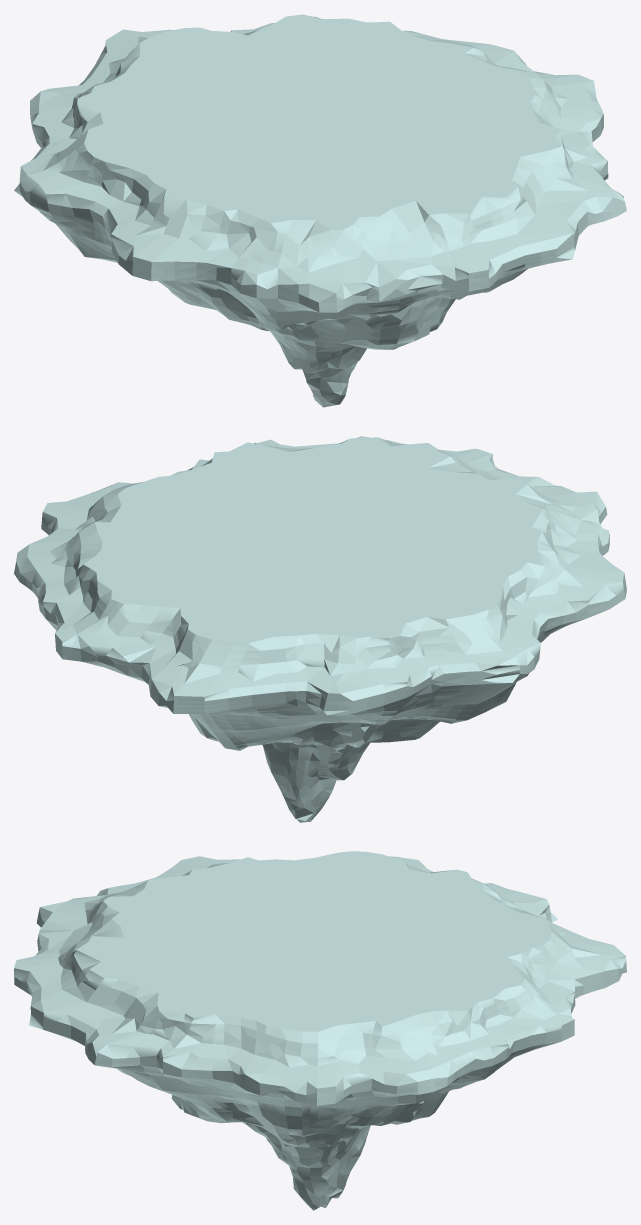
File: IcePlatformLP.fbx
3 views of the same model, one above another, from view 1: azimuth 30°, elevation 25°; view 2: azimuth 150°, elevation 25°; view 3: azimuth 270°, elevation 25° (orthographic). The views are drawn at different scales.
Visible parts, largest first — view 1: Ice; view 2: Ice; view 3: Ice.
Boxes of the visible parts, bbox=[...] form: Ice: bbox=[14, 14, 626, 407]; Ice: bbox=[14, 436, 626, 822]; Ice: bbox=[14, 851, 626, 1210].
Bounding box in the file's own units: 1228 × 633 × 1347.
